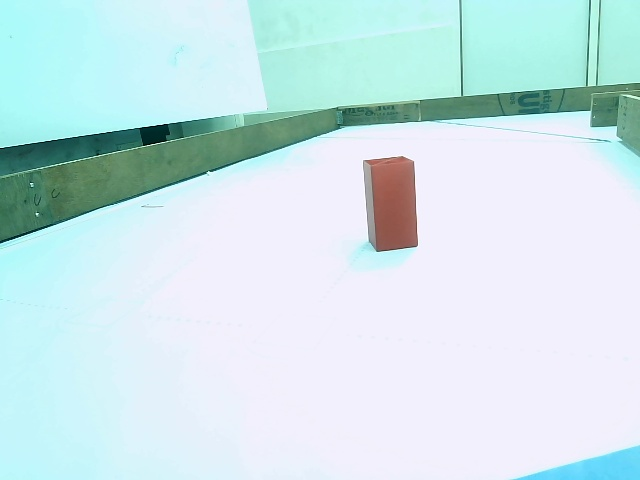red: (366, 160, 420, 248)
